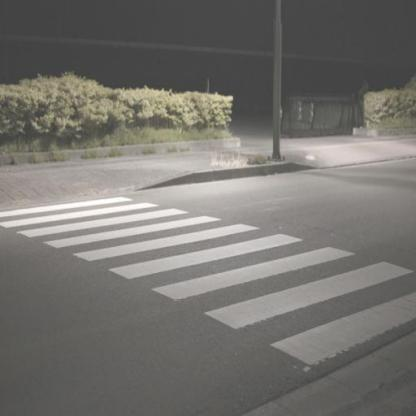crosswalk: (72, 220, 318, 282)
